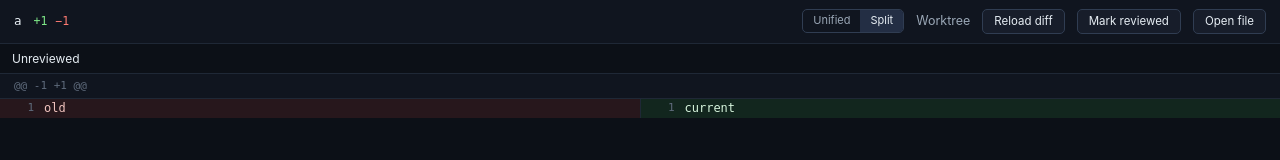
Scenario: removes an observed invalidation and cannot resurrect its marker from an older response
Click the button "Mark reviewed" at (1129,21), box [1077,9,1181,34]
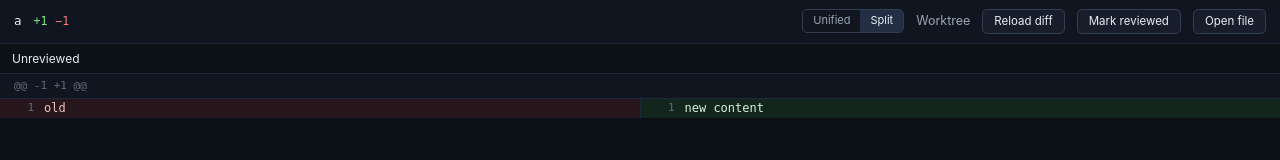
Expected: the text "new content" is shown, [684,101,764,115]
